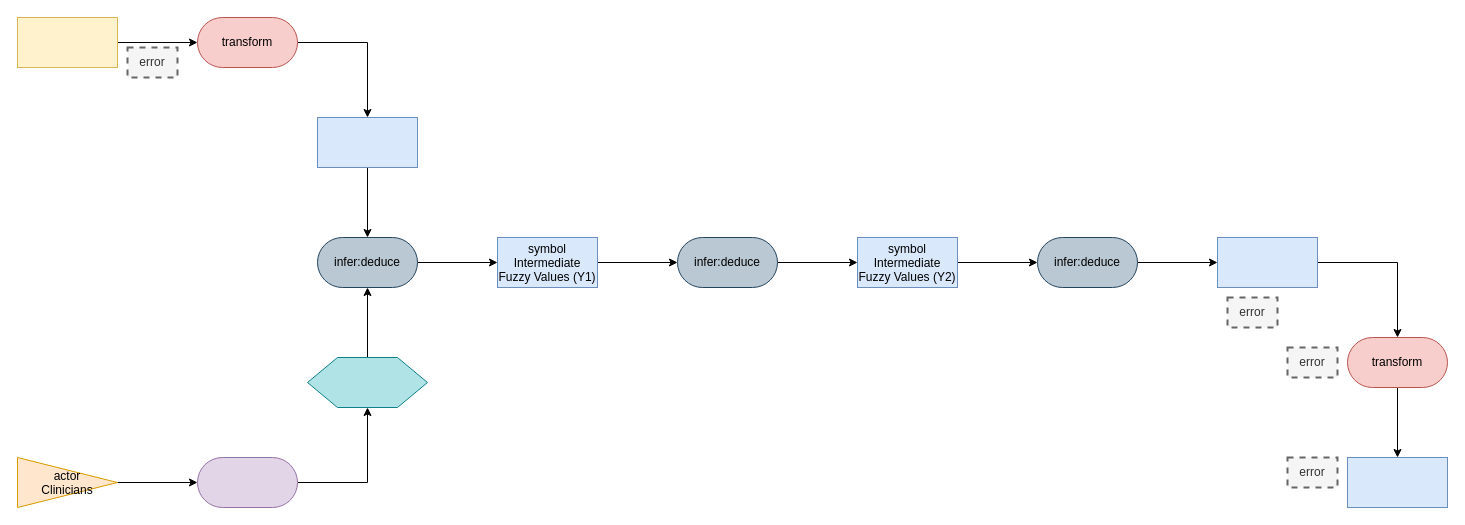
Image size: 1465x525. Some labels were removed from this diagram. The centre of each missing label's shape, as x and y in pixels:
data Vital Signs Data: point (67, 42)
generate:engineer: point (247, 482)
model:semantic Rules: point (367, 382)
symbol Cardiovascular Risk Level: point (1267, 262)
symbol Crisp Risk Level: point (1397, 482)
symbol Fuzzy Values: point (367, 142)
